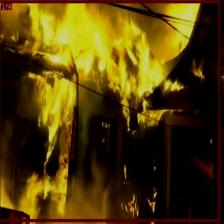fire: (0, 0, 220, 221)
